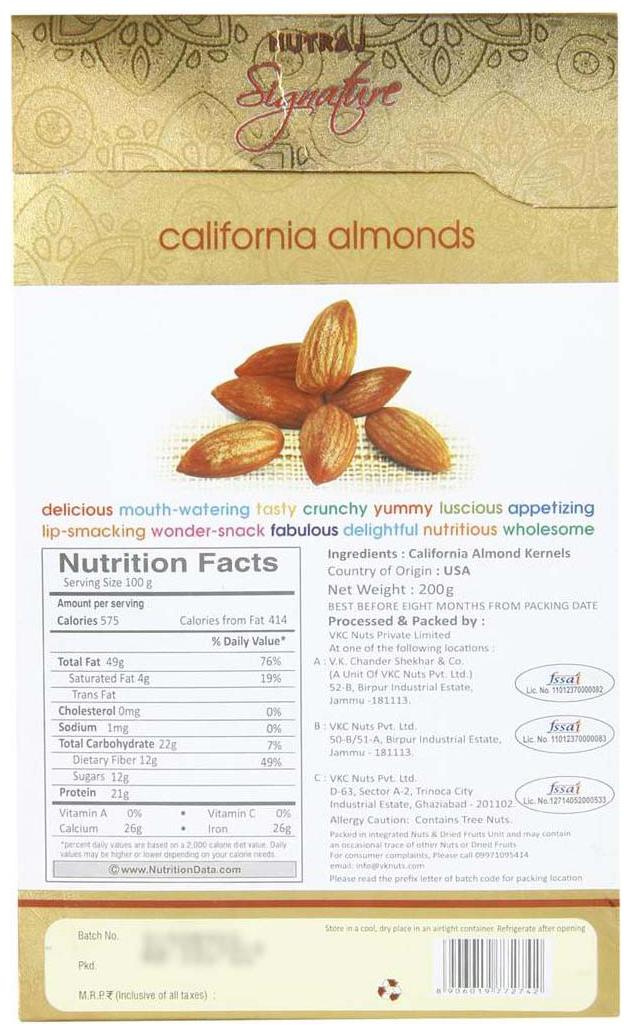fssai: (546, 779, 583, 795), (546, 671, 581, 685), (546, 719, 581, 733)
